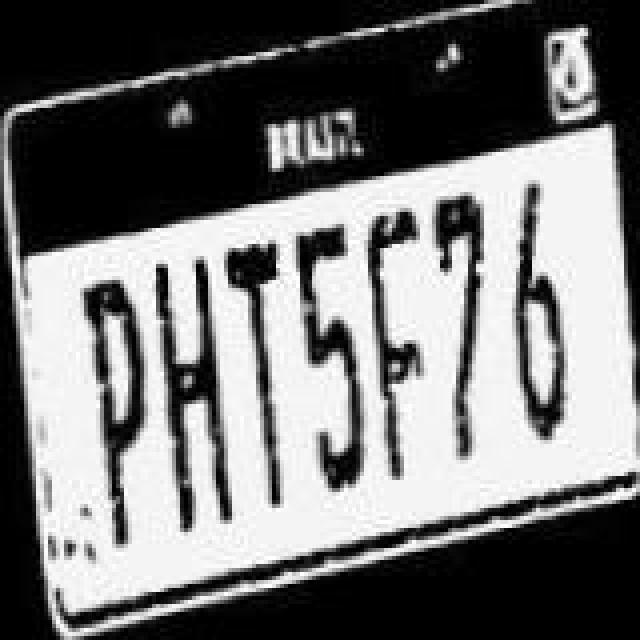5: (284, 216, 368, 504)
6: (494, 174, 578, 450)
7: (424, 180, 504, 460)
F: (358, 200, 434, 484)
H: (144, 256, 236, 536)
P: (72, 264, 168, 568)
T: (222, 226, 302, 498)
